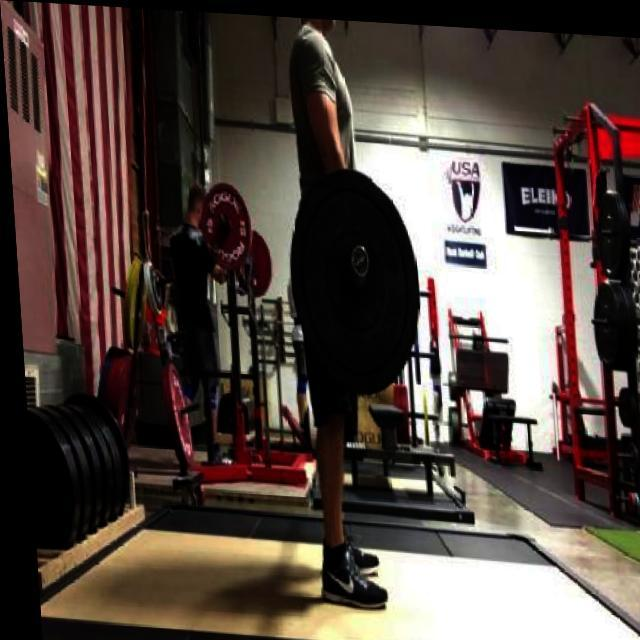barbell: (280, 157, 424, 397)
